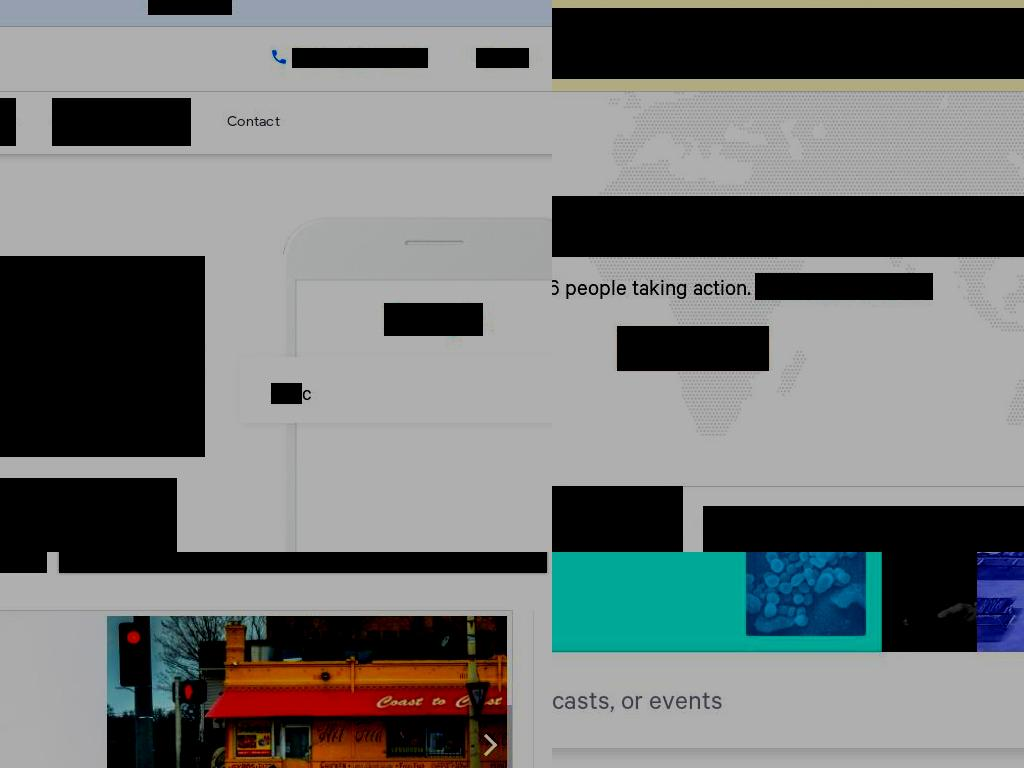button: (0, 616, 507, 768), (746, 552, 1024, 700), (703, 506, 1024, 552), (617, 326, 769, 371), (467, 704, 512, 768)
field: (552, 686, 1024, 719), (59, 552, 547, 573)
heading: (0, 256, 205, 457), (552, 196, 1024, 257), (703, 506, 1024, 552)
image: (746, 552, 1024, 700), (384, 303, 483, 336), (0, 552, 47, 573), (478, 724, 501, 765)
link: (552, 33, 1024, 79), (52, 98, 191, 146), (755, 273, 933, 300), (227, 98, 280, 146), (148, 0, 232, 15), (0, 98, 16, 146)
text: (552, 8, 1024, 55), (0, 478, 177, 552), (552, 273, 756, 300), (292, 48, 428, 68), (476, 48, 529, 68), (271, 383, 302, 404)
